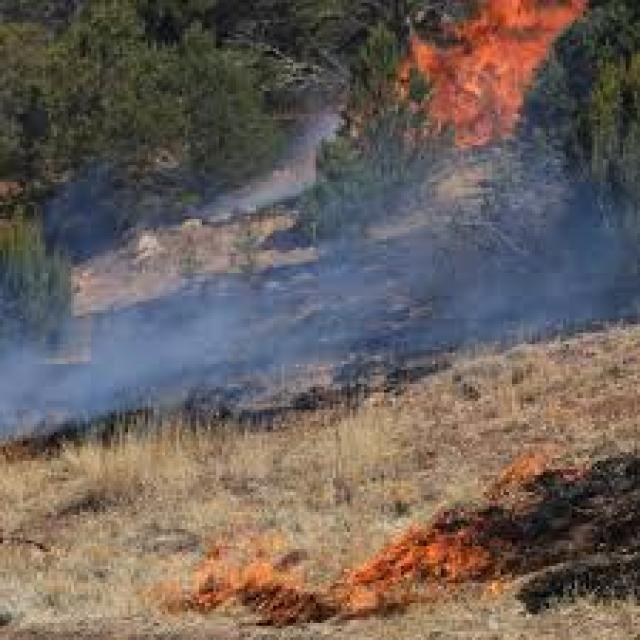Fire: (368, 0, 602, 169), (170, 536, 359, 634), (329, 514, 516, 608)
Smoke: (0, 296, 343, 428), (372, 224, 597, 330)
